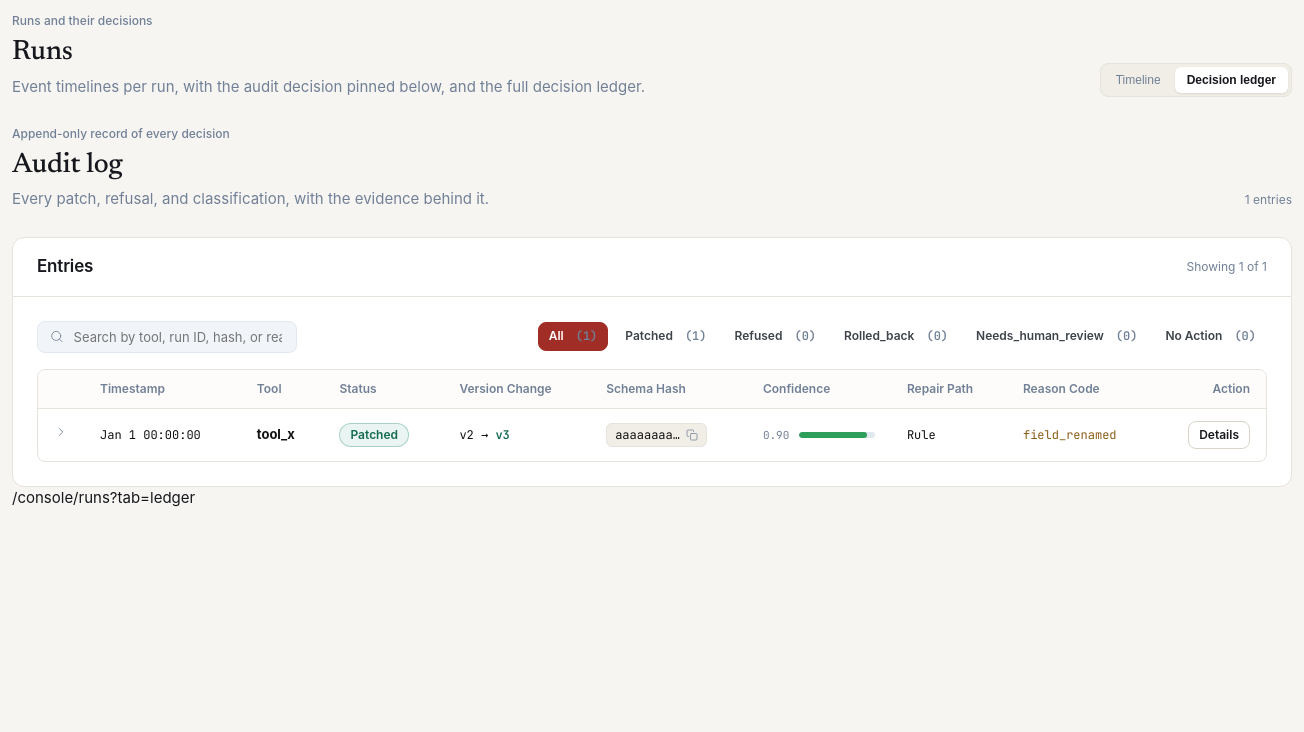
Runs page › the decision ledger filters by outcome and a row click opens the run
expect the heading "Audit log" is shown: met, box [12, 151, 122, 179]
expect the row with test id "audit-row-run-run-1" is shown: met, box [38, 408, 1266, 462]
// Outcome filter chips work.
What coordinates should you click on to do the following:
click the button "refused (0)"
I would click on:
 (775, 337)
Its box is [724, 322, 827, 351].
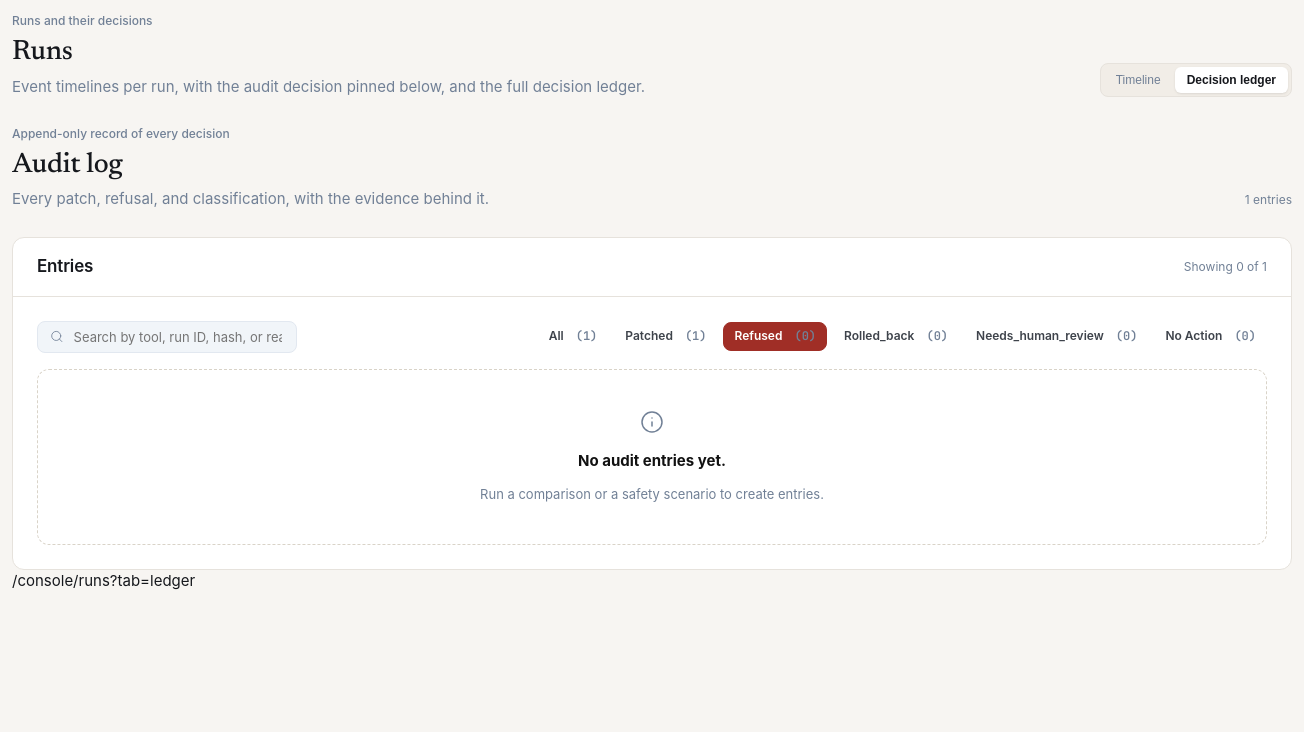
expect the text "No audit entries yet." is shown: met, box [578, 450, 726, 473]
What coordinates should you click on to do the following:
click the button "Patched (1)"
I would click on:
 (666, 337)
Its box is [614, 322, 718, 351].
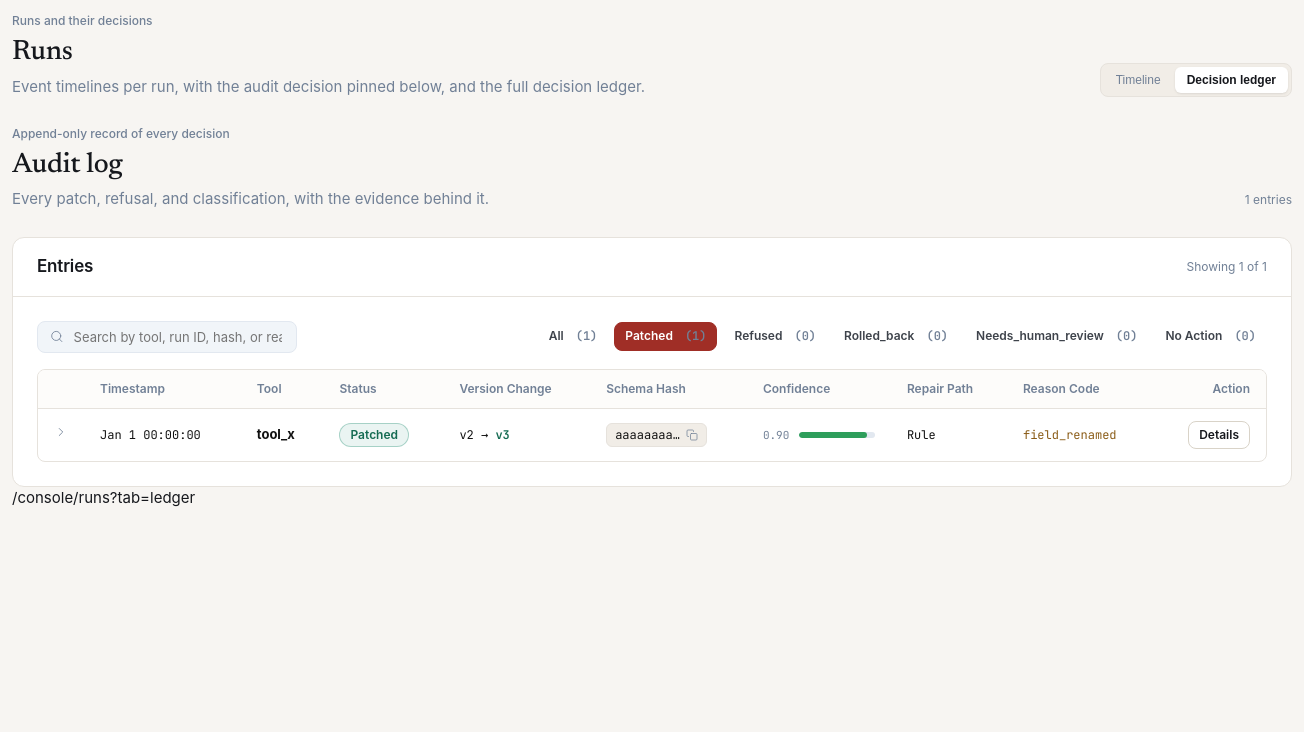
// A row click opens that run in the timeline tab.
What coordinates should you click on to do the following:
click the row with test id "audit-row-run-run-1"
I would click on:
 (652, 435)
Its box is [38, 408, 1266, 462].
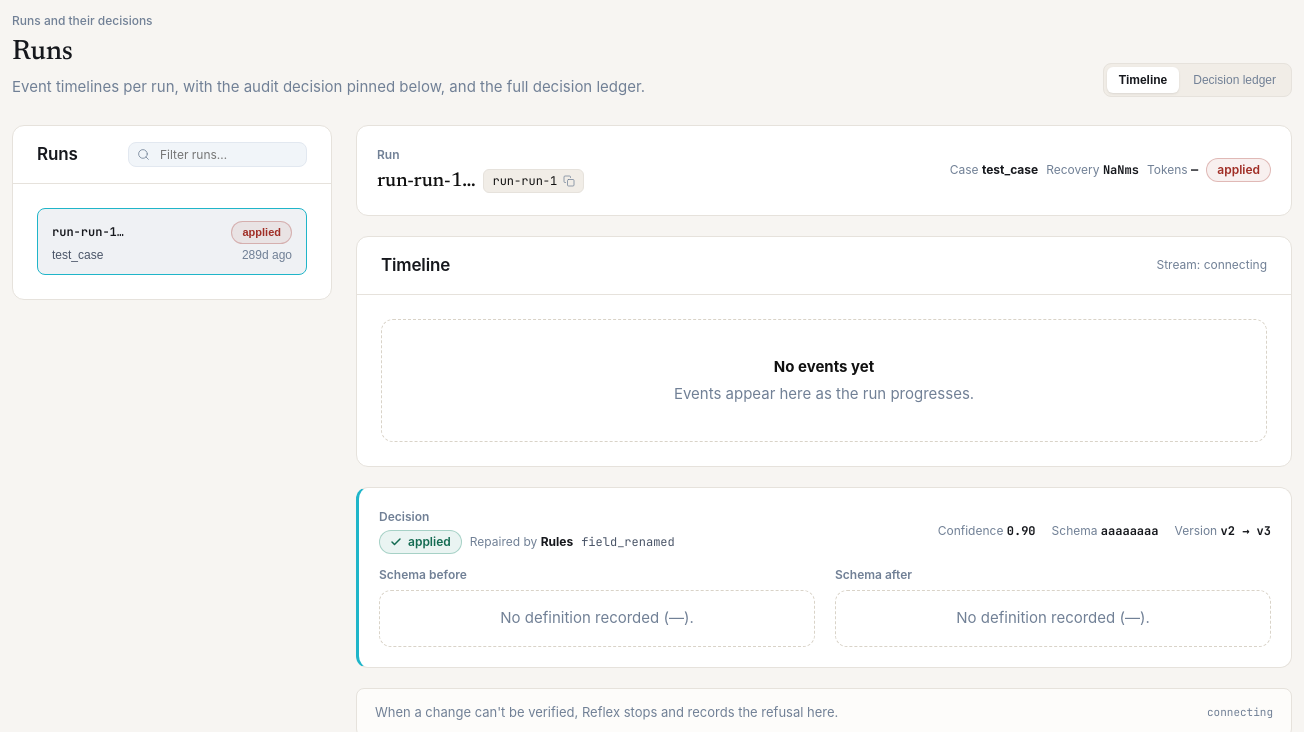
expect the element with test id "decision-card" is shown: met, box [356, 487, 1292, 668]
